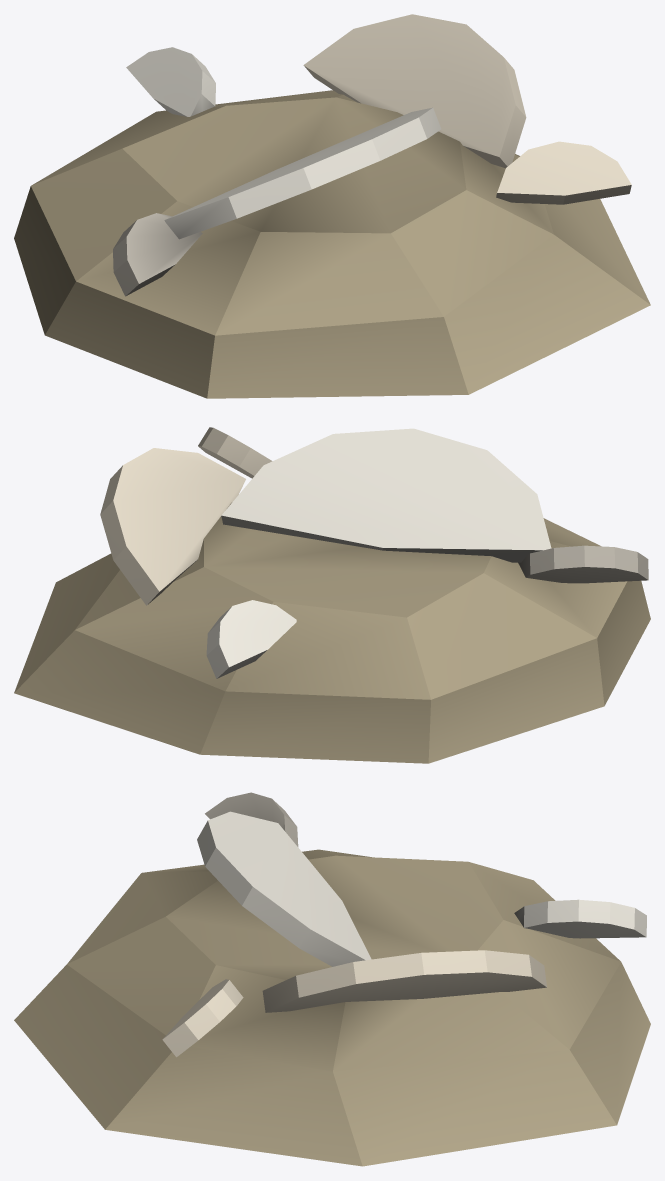
File: shell_pile_b.glb
The picture shows the model from 3 angles, top to bottom: view 1: azimuth 30°, elevation 25°; view 2: azimuth 150°, elevation 25°; view 3: azimuth 270°, elevation 25°; orthographic projection. The views are drawn at different scales.
Visible parts, largest first — view 1: body; view 2: body; view 3: body.
Part boxes in pixels (x1,y1,x2,y2): body: (14,14,650,398); body: (14,427,650,763); body: (14,792,650,1166).
Bounding box in the file's own units: 0.6152 × 0.1872 × 0.6146.
